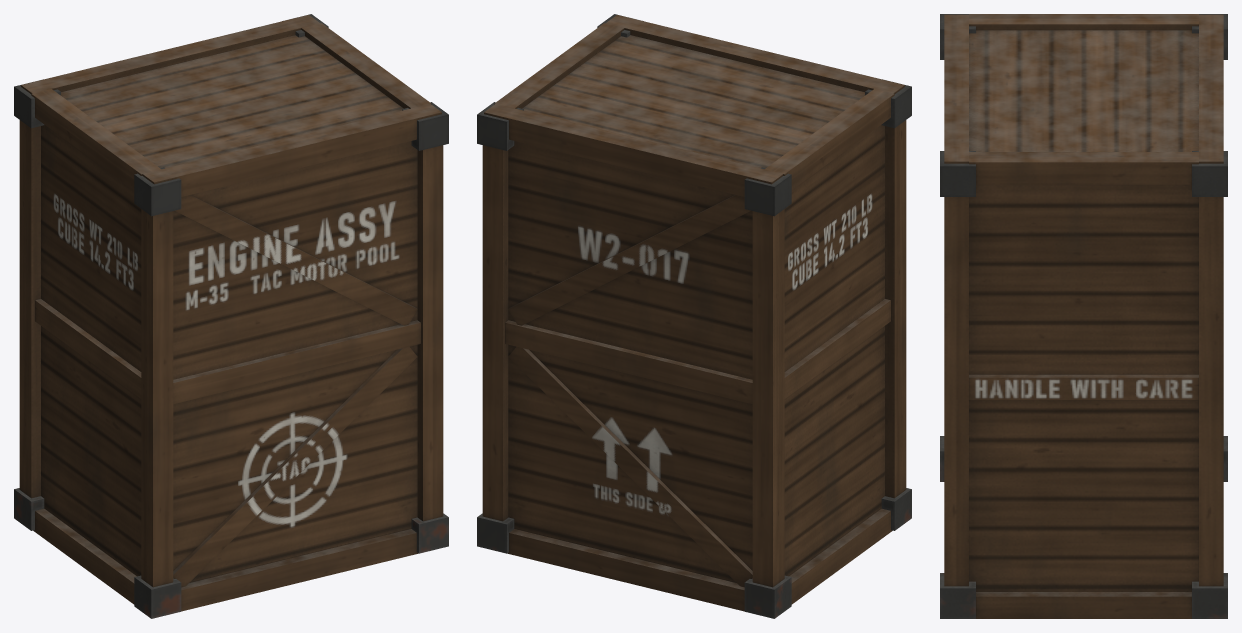
File: W2_Cover_Tall.fbx
3 renders of one model, left to right at view 1: azimuth 30°, elevation 25°; view 2: azimuth 150°, elevation 25°; view 3: azimuth 270°, elevation 25°, orthographic. The views are drawn at different scales.
Visible parts, largest first — view 1: W2_Cover_Tall__W2_TallCrate; view 2: W2_Cover_Tall__W2_TallCrate; view 3: W2_Cover_Tall__W2_TallCrate.
Part boxes in pixels (x1,y1,x2,y2): W2_Cover_Tall__W2_TallCrate: (14,14,448,618); W2_Cover_Tall__W2_TallCrate: (477,14,911,618); W2_Cover_Tall__W2_TallCrate: (940,14,1227,618).
Size of the model in its own units: 500 by 700 by 400.
Materials: 1 (1 with a texture image).
